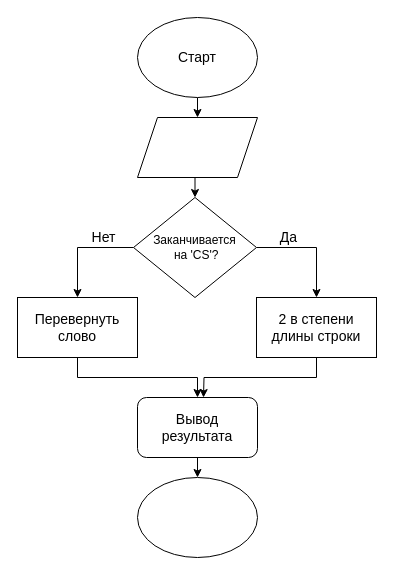
The diagram is 394 pixels wide and 575 high, and some of its shapes have lost their labels. Each missing label, with the centre of its shape:
Ввод строки: the point at 197,147
Конец: the point at 197,517
